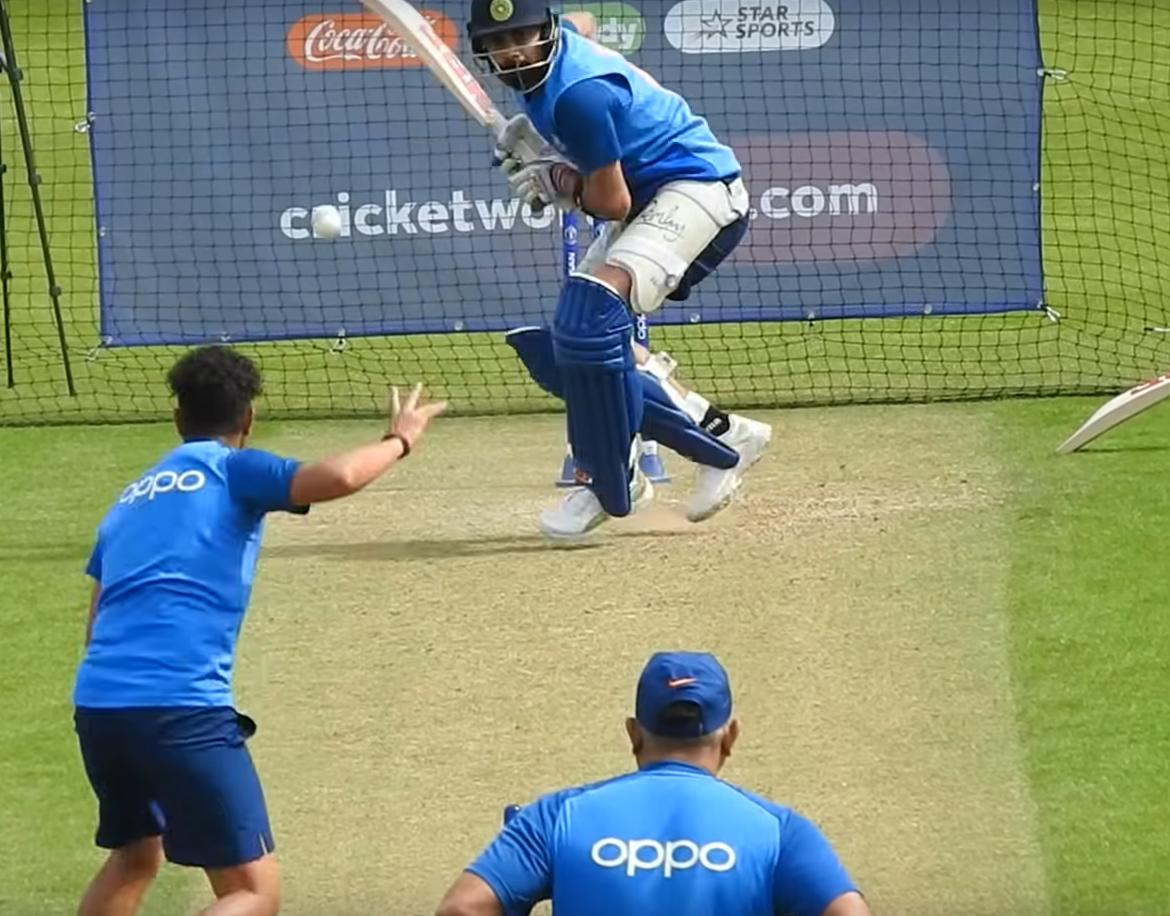Cricket-Ball: (304, 198, 353, 247)
